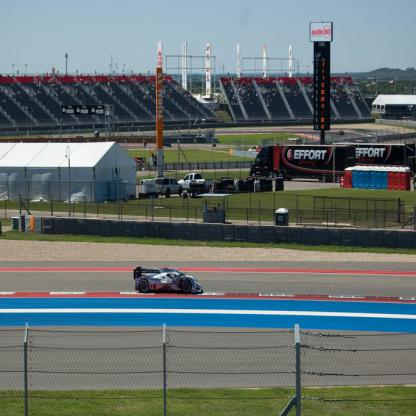Car: (131, 267, 204, 301), (156, 176, 184, 196)
